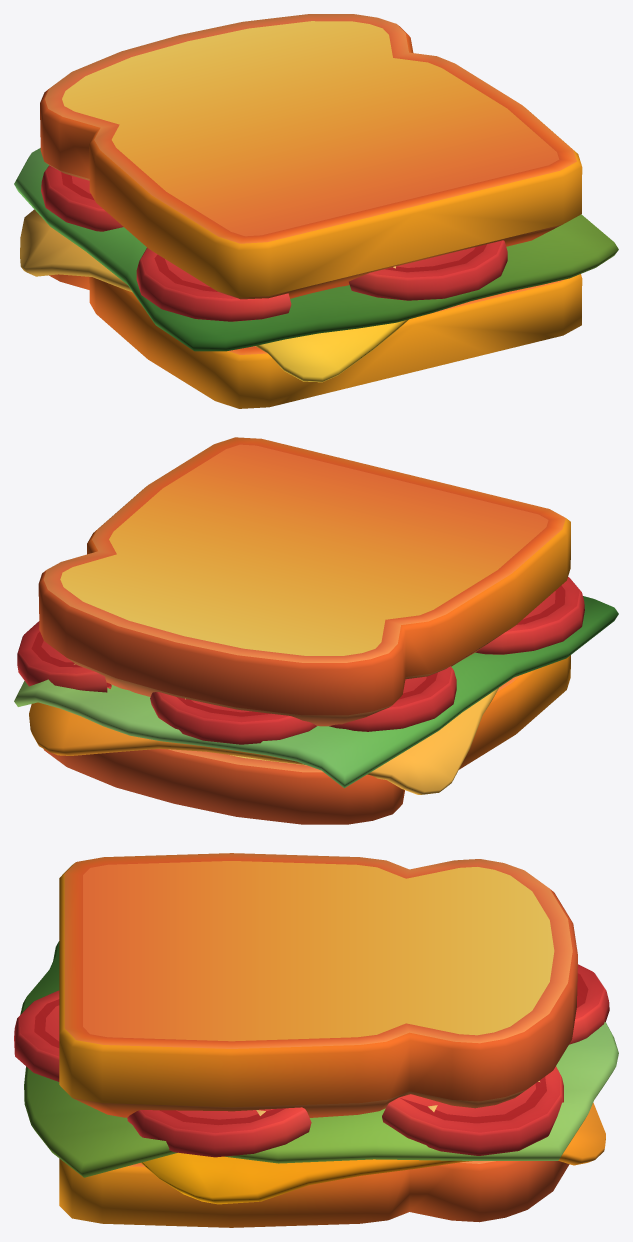
Rendered from sandwich_001.fbx.
3 views of the same model, one above another, from view 1: azimuth 30°, elevation 25°; view 2: azimuth 150°, elevation 25°; view 3: azimuth 270°, elevation 25° (orthographic). The views are drawn at different scales.
Visible parts, largest first — view 1: sandwich_001; view 2: sandwich_001; view 3: sandwich_001.
Boxes of the visible parts, left/top/right/bottom form: sandwich_001: left=14, top=14, right=618, bottom=408; sandwich_001: left=14, top=437, right=618, bottom=824; sandwich_001: left=14, top=853, right=618, bottom=1227.
Bounding box in the file's own units: 12.94 × 14.24 × 4.59.
